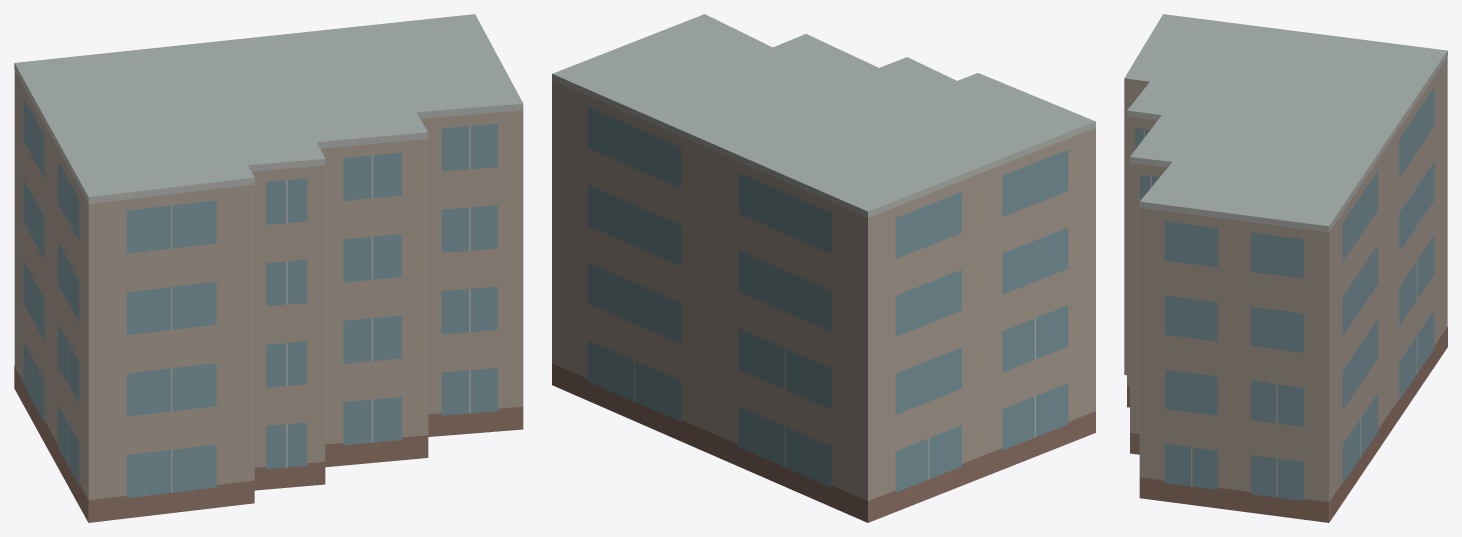
File: survey-upis-32942549.glb
3 renders of one model, left to right at view 1: azimuth 30°, elevation 25°; view 2: azimuth 150°, elevation 25°; view 3: azimuth 270°, elevation 25°, orthographic. The views are drawn at different scales.
Visible parts, largest first — view 1: survey-upis-32942549.tmp; view 2: survey-upis-32942549.tmp; view 3: survey-upis-32942549.tmp.
Part boxes in pixels (left/top/right/bottom): survey-upis-32942549.tmp: left=14, top=14, right=523, bottom=522; survey-upis-32942549.tmp: left=552, top=14, right=1095, bottom=522; survey-upis-32942549.tmp: left=1124, top=14, right=1447, bottom=522.
Size of the model in its own units: 18.12 by 11.8 by 11.68.
